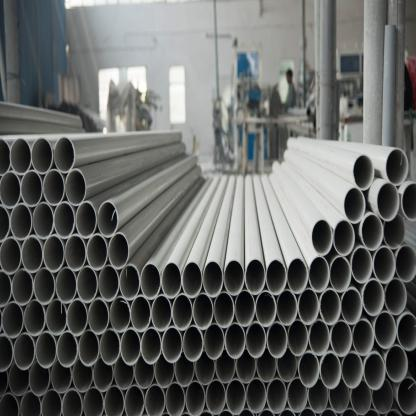pipe: (376, 182, 400, 221), (374, 310, 396, 350), (364, 350, 386, 390), (20, 169, 43, 207), (361, 212, 384, 250), (373, 246, 396, 284), (13, 332, 36, 370), (384, 278, 407, 315), (10, 136, 31, 176), (386, 148, 408, 186), (108, 232, 130, 270), (350, 246, 372, 284), (266, 258, 288, 296), (34, 268, 56, 306), (362, 278, 384, 316), (341, 287, 363, 325), (319, 288, 341, 326), (192, 292, 214, 330), (2, 301, 24, 339), (352, 318, 374, 356), (330, 320, 352, 358), (182, 324, 204, 362), (386, 344, 408, 382), (320, 350, 342, 388), (342, 351, 364, 389), (352, 154, 374, 191), (43, 169, 65, 206), (10, 203, 32, 240), (312, 219, 334, 256), (333, 219, 355, 256), (86, 234, 108, 271), (0, 237, 22, 274), (286, 257, 308, 294), (140, 263, 162, 300), (12, 268, 34, 305), (276, 289, 298, 326), (130, 295, 152, 332), (109, 296, 131, 333), (308, 319, 330, 356), (298, 351, 320, 388), (0, 171, 21, 209), (32, 201, 53, 239), (54, 201, 75, 239), (65, 234, 86, 272), (202, 260, 223, 298), (56, 266, 77, 304), (151, 294, 172, 332), (88, 298, 109, 336), (67, 298, 88, 336), (100, 328, 121, 366), (372, 378, 394, 414), (350, 379, 372, 415), (31, 138, 53, 174), (344, 187, 366, 223), (330, 256, 352, 292), (140, 328, 162, 364), (78, 330, 100, 366), (44, 234, 64, 273), (97, 201, 118, 238), (395, 245, 416, 282), (309, 256, 330, 293), (245, 258, 266, 295), (182, 261, 203, 298), (161, 262, 182, 299), (119, 264, 140, 301), (99, 265, 120, 302), (77, 266, 98, 303), (298, 288, 319, 325), (214, 291, 235, 328), (46, 299, 67, 336), (57, 331, 78, 368), (328, 378, 350, 413), (383, 214, 405, 249), (92, 357, 114, 392), (66, 168, 86, 206), (76, 200, 96, 238), (22, 235, 42, 273), (396, 313, 416, 351), (120, 328, 140, 366), (36, 331, 56, 369), (308, 378, 329, 414), (266, 378, 287, 414), (54, 136, 75, 172), (235, 290, 256, 326), (172, 294, 193, 330), (25, 300, 46, 336), (267, 322, 288, 358), (204, 323, 225, 359), (161, 326, 182, 362), (174, 350, 195, 386), (51, 358, 72, 394), (226, 378, 246, 415), (224, 259, 244, 296), (256, 290, 276, 327), (246, 321, 266, 358), (224, 323, 245, 358), (72, 358, 93, 393), (29, 361, 50, 396), (8, 363, 30, 396), (246, 378, 266, 414), (206, 379, 226, 415), (186, 380, 206, 416), (288, 320, 308, 356), (277, 346, 297, 382), (124, 384, 146, 416), (256, 347, 276, 382), (236, 348, 256, 383), (216, 348, 236, 383), (195, 350, 215, 385), (154, 353, 174, 388), (114, 355, 134, 390), (397, 377, 415, 415), (288, 378, 308, 412), (166, 382, 186, 416), (134, 355, 154, 388), (104, 385, 125, 416), (145, 384, 165, 416), (83, 386, 104, 416), (62, 388, 84, 415), (41, 388, 62, 416), (401, 181, 415, 223), (20, 390, 42, 416), (0, 334, 14, 372), (0, 392, 20, 416), (0, 269, 12, 308), (0, 137, 11, 176), (0, 205, 11, 243)
